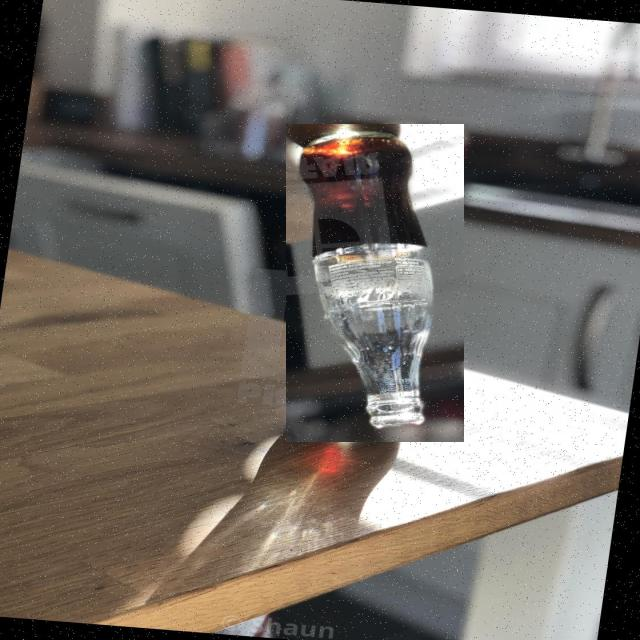coca-cola: (286, 124, 464, 442)
